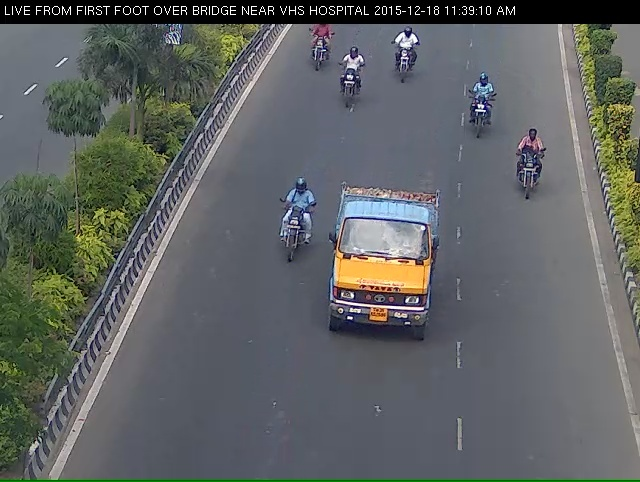Car: (328, 182, 441, 368)
Person: (252, 194, 312, 281), (388, 32, 426, 93), (513, 142, 546, 212), (335, 60, 366, 119), (465, 85, 494, 147), (301, 23, 329, 81)
